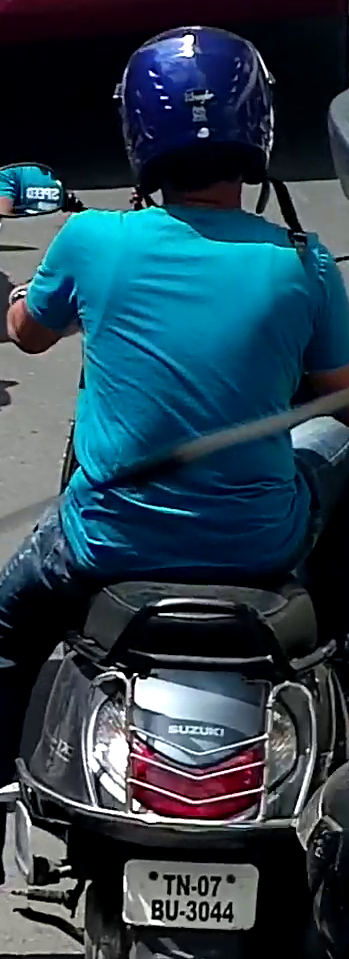-: (191, 886, 196, 892), (179, 911, 185, 915)
0: (197, 875, 208, 896), (197, 901, 208, 922)
3: (186, 900, 196, 921)
4: (209, 901, 222, 922), (223, 901, 234, 923)
7: (209, 875, 221, 897)
B: (150, 899, 163, 921)
N: (175, 874, 189, 896)
P16: (120, 858, 259, 934)
T: (161, 874, 175, 896)
U: (165, 899, 178, 921)
